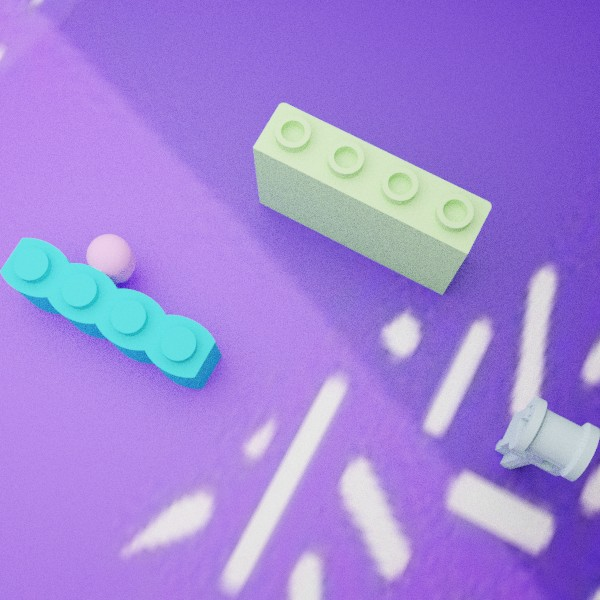lego: (252, 102, 491, 295), (0, 237, 221, 389), (495, 396, 600, 481), (86, 234, 135, 283)
